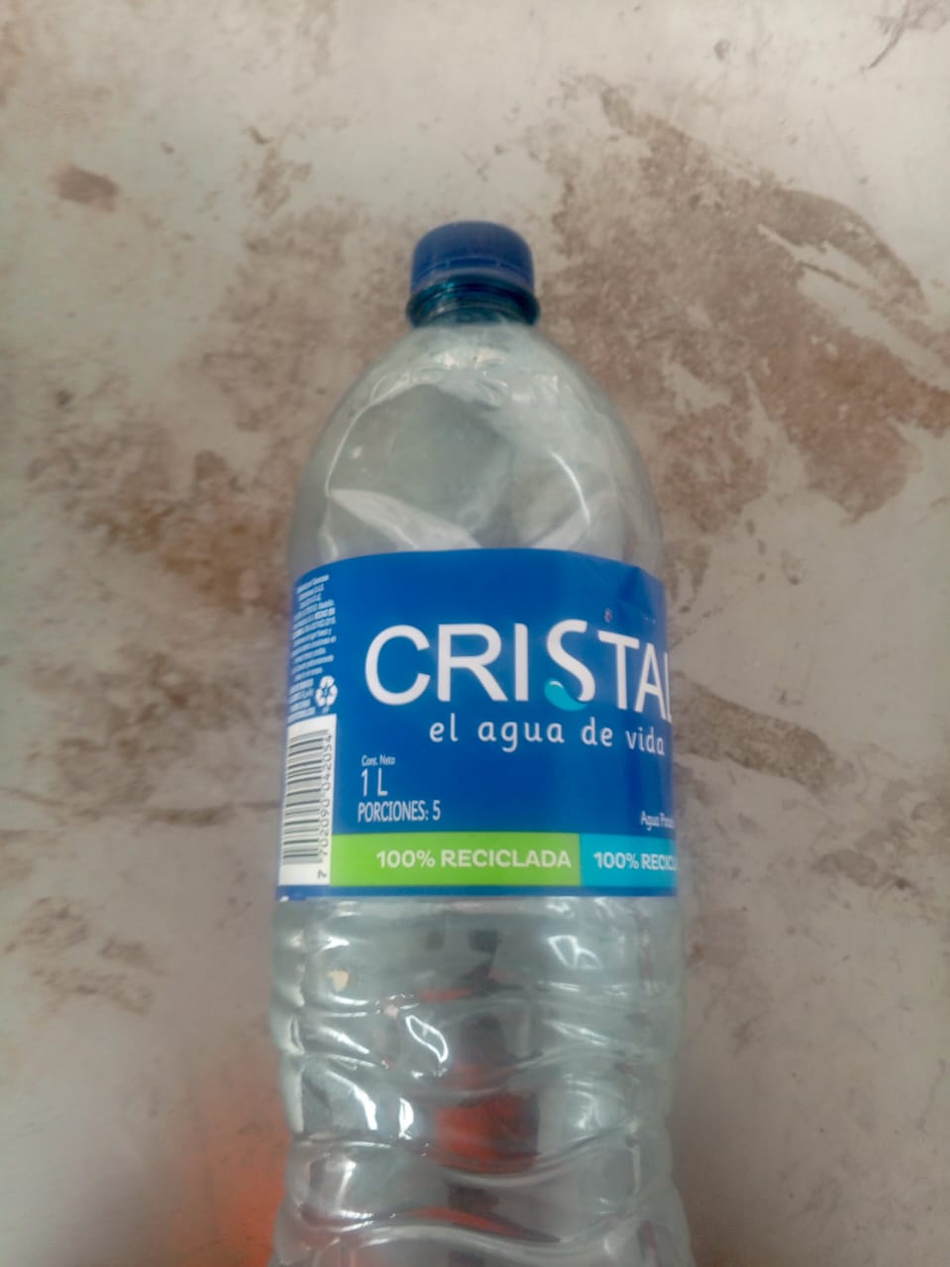Plastico: (270, 221, 691, 1267)
